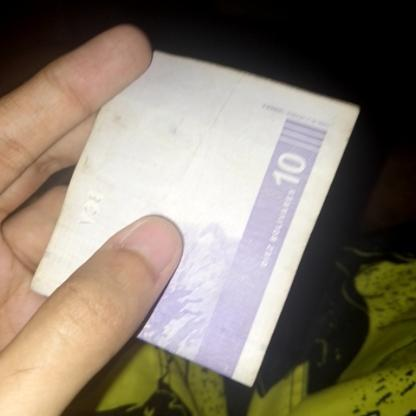ten-back-vef: (132, 72, 364, 388)
